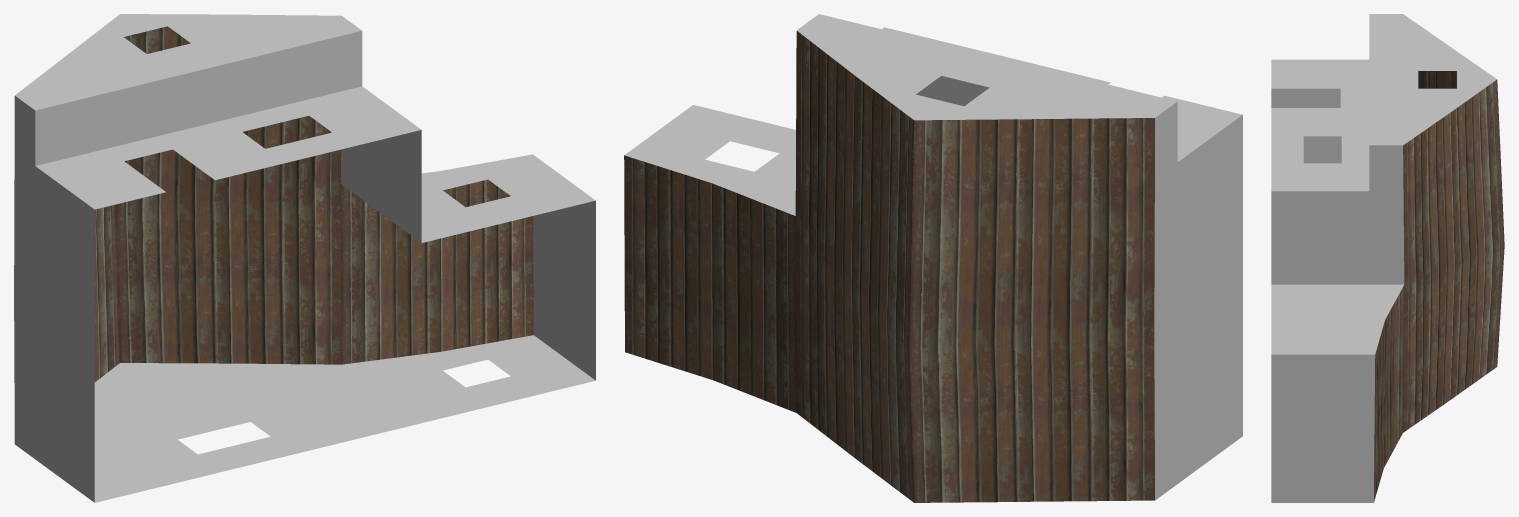
File: Pirate_House_Interior_Type02_E.fbx
The picture shows the model from 3 angles, left to right: view 1: azimuth 30°, elevation 25°; view 2: azimuth 150°, elevation 25°; view 3: azimuth 270°, elevation 25°; orthographic projection. The views are drawn at different scales.
Visible parts, largest first — view 1: Pirate_House_Interior_Type02_E; view 2: Pirate_House_Interior_Type02_E; view 3: Pirate_House_Interior_Type02_E.
Boxes of the visible parts, box(x1,y1,x2,y2) form: Pirate_House_Interior_Type02_E: box(14, 14, 595, 502); Pirate_House_Interior_Type02_E: box(624, 14, 1242, 502); Pirate_House_Interior_Type02_E: box(1271, 14, 1504, 502).
Bounding box in the file's own units: 14.43 × 9.6 × 7.06.
